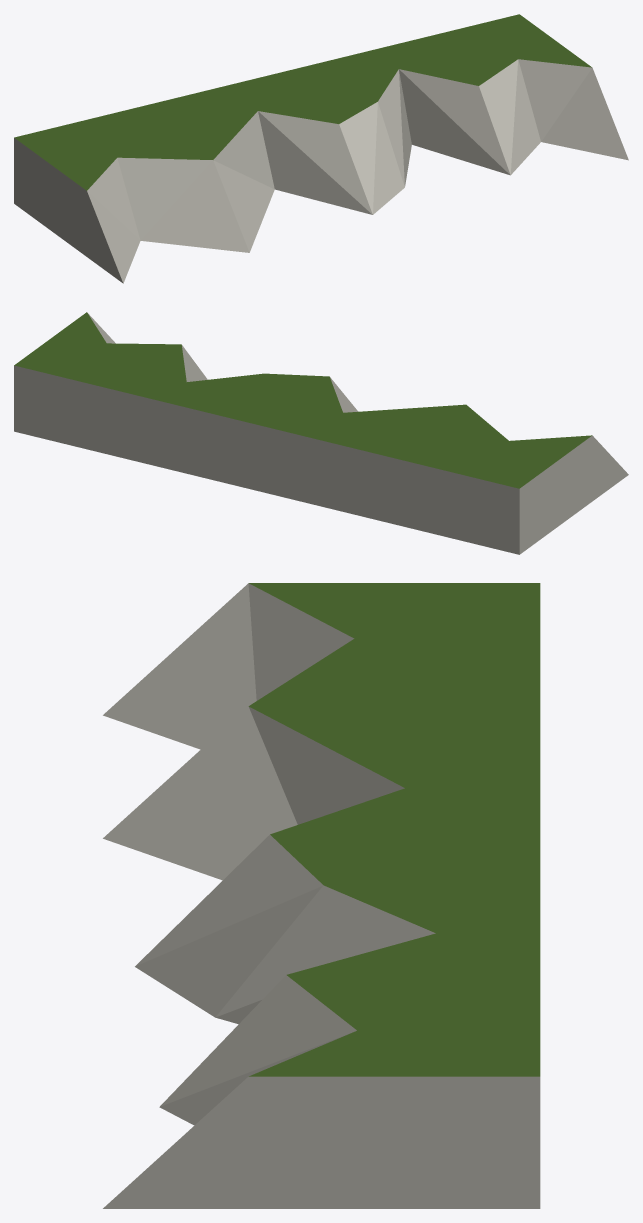
Rendered from Terrain_Tile_Grass_Rock_Ledge_03.fbx.
The picture shows the model from 3 angles, top to bottom: view 1: azimuth 30°, elevation 25°; view 2: azimuth 150°, elevation 25°; view 3: azimuth 270°, elevation 25°; orthographic projection. The views are drawn at different scales.
Parts seen in each view (by area): view 1: Terrain_Tile_Grass_Rock_Ledge_03; view 2: Terrain_Tile_Grass_Rock_Ledge_03; view 3: Terrain_Tile_Grass_Rock_Ledge_03.
Boxes of the visible parts, x1,y1,x2,y2 form: Terrain_Tile_Grass_Rock_Ledge_03: (14, 14, 628, 283); Terrain_Tile_Grass_Rock_Ledge_03: (14, 312, 628, 554); Terrain_Tile_Grass_Rock_Ledge_03: (103, 583, 540, 1208).
Bounding box in the file's own units: 126 × 15.75 × 47.24.
